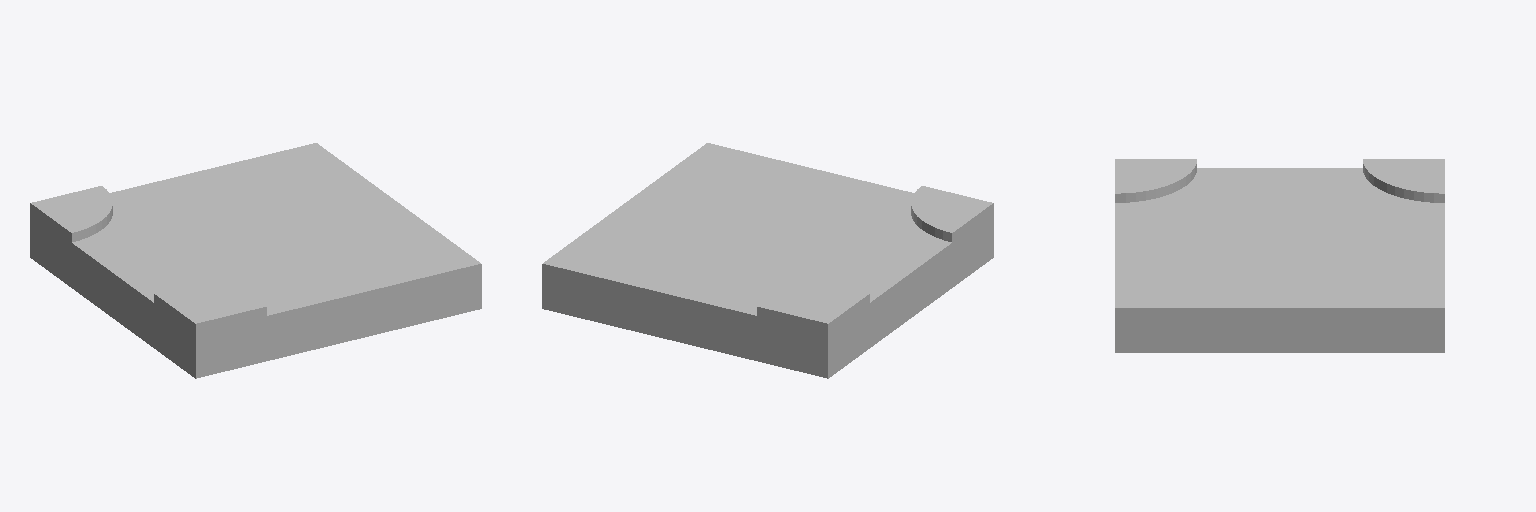
File: roadTile_167.obj
3 renders of one model, left to right at view 1: azimuth 30°, elevation 25°; view 2: azimuth 150°, elevation 25°; view 3: azimuth 270°, elevation 25°, orthographic.
Parts seen in each view (by area): view 1: Mesh1 Group1 Model; view 2: Mesh1 Group1 Model; view 3: Mesh1 Group1 Model.
Boxes of the visible parts, x1=… form: Mesh1 Group1 Model: x1=30, y1=143, x2=481, y2=378; Mesh1 Group1 Model: x1=542, y1=143, x2=993, y2=378; Mesh1 Group1 Model: x1=1115, y1=159, x2=1444, y2=352.
Size of the model in its own units: 3 by 0.55 by 3.